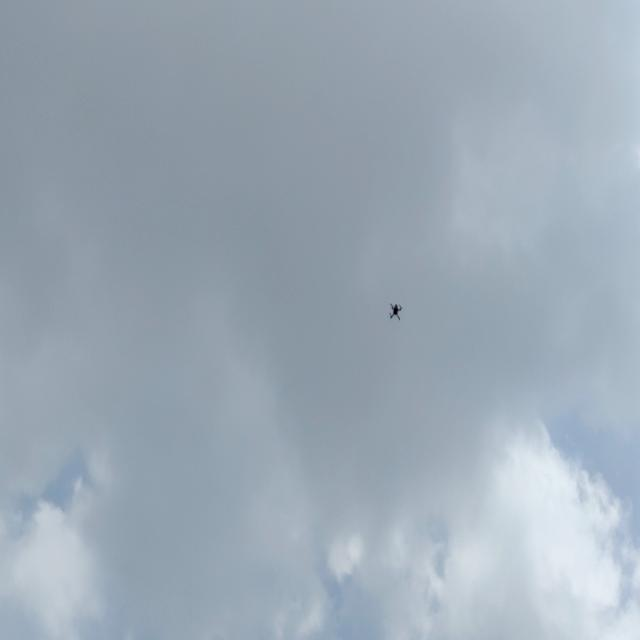drone: (382, 296, 408, 323)
